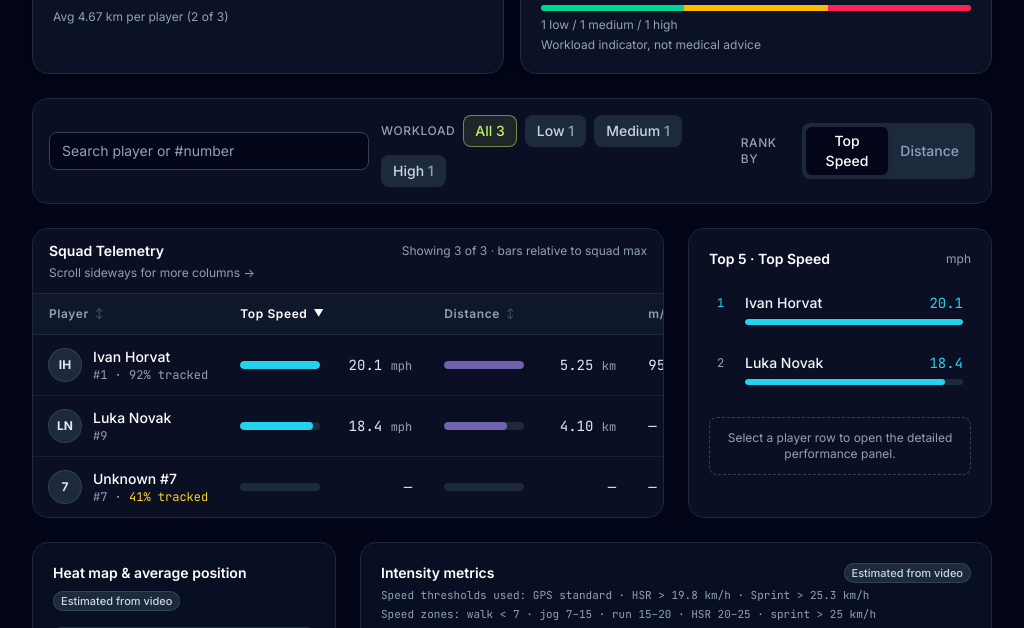
Test: Dashboard rendering › player detail: heat map drawn from dynamic cols/rows (21×14), coverage badge, thresholds
The width and height of the screenshot is (1024, 628).
(page scrolled)
Click the 2nd text "Ivan Horvat": (132,356) [93,348,170,364]
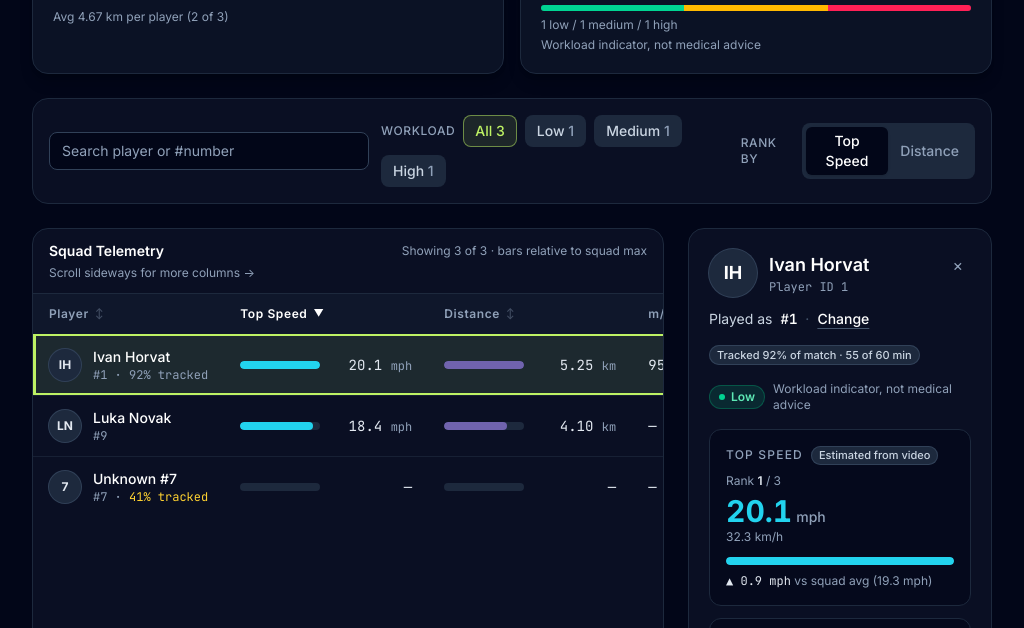
Expected: the text "Tracked 92% of match · 55 of 60 min" is shown, [709,344,920,365]
Expected: the text "Player ID 1" is shown, [769,278,848,294]
